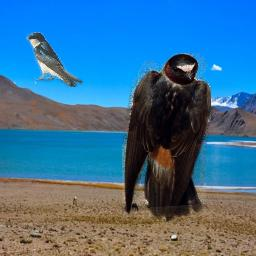Swallow: (122, 53, 211, 223), (26, 32, 83, 87)
